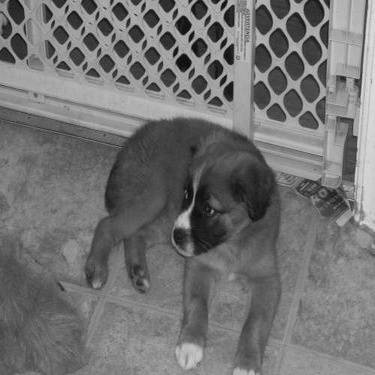dog: (64, 92, 289, 373)
